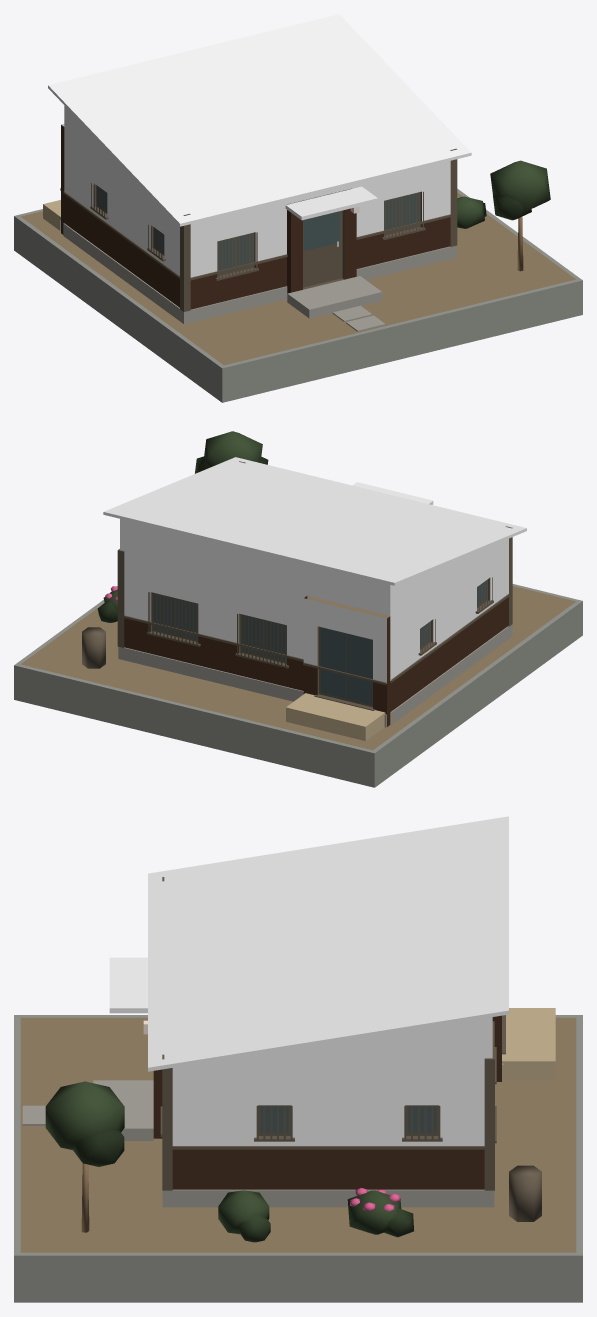
The model's file is site_hut5.fbx.
The picture shows the model from 3 angles, top to bottom: view 1: azimuth 30°, elevation 25°; view 2: azimuth 150°, elevation 25°; view 3: azimuth 270°, elevation 25°; orthographic projection. The views are drawn at different scales.
Parts seen in each view (by area): view 1: a2015.site_hut5; view 2: a2015.site_hut5; view 3: a2015.site_hut5.
Part boxes in pixels (<box>): a2015.site_hut5: <box>14,14,582,402</box>; a2015.site_hut5: <box>14,431,582,787</box>; a2015.site_hut5: <box>14,816,582,1302</box>.
Bounding box in the file's own units: 10.4 × 5.05 × 10.4.
